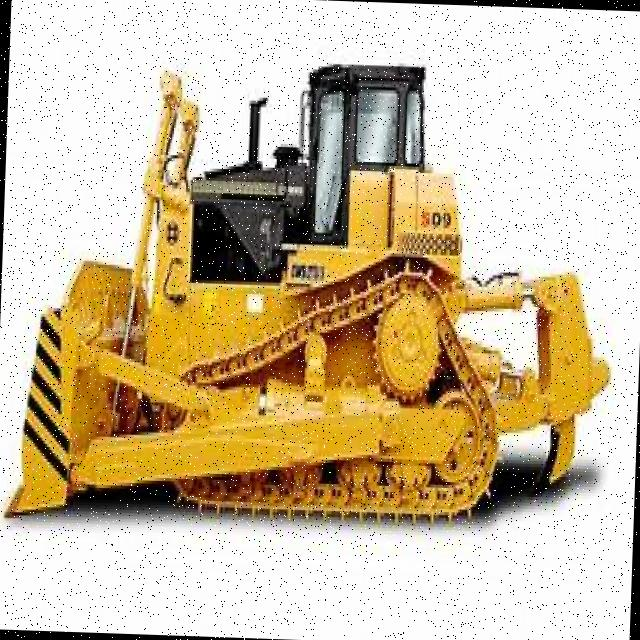Bulldozer: (0, 37, 617, 550)
